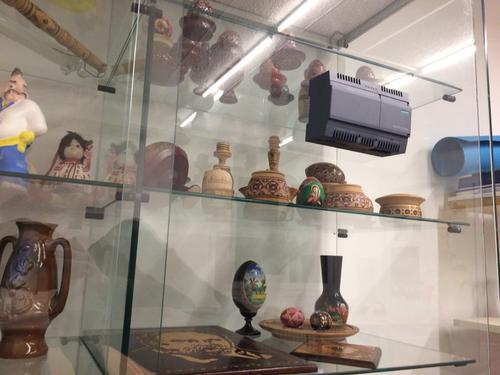iot2000: (305, 70, 413, 159)
